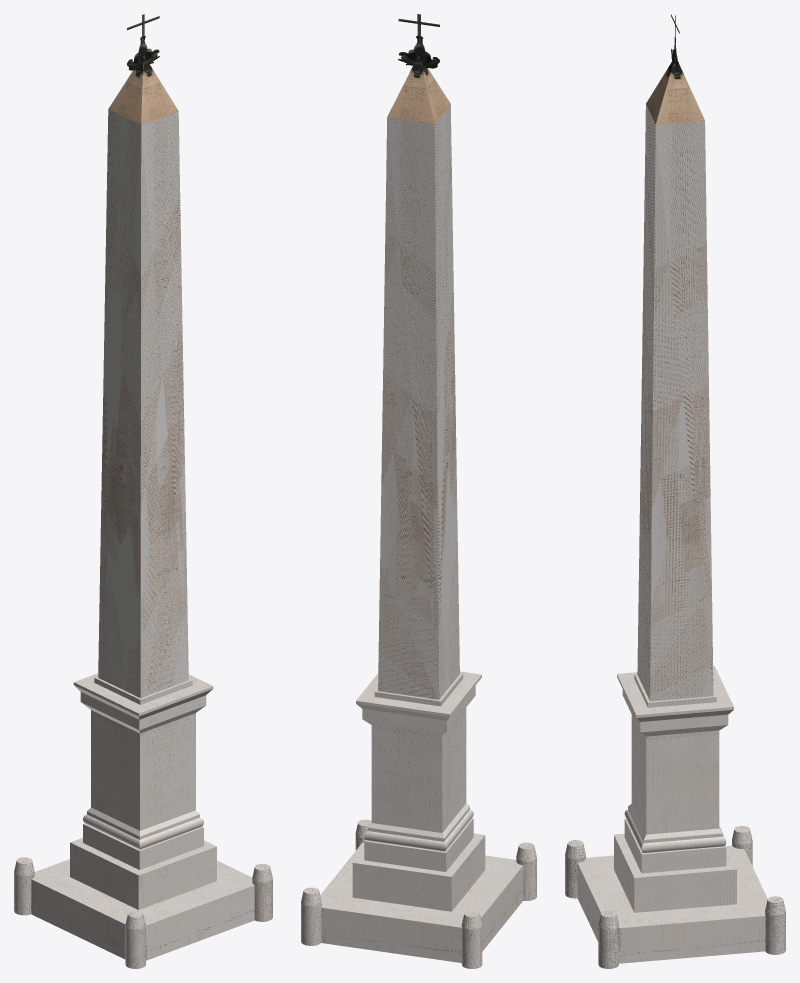
The picture shows the model from 3 angles, left to right: view 1: azimuth 30°, elevation 25°; view 2: azimuth 150°, elevation 25°; view 3: azimuth 270°, elevation 25°; orthographic projection.
Parts seen in each view (by area): view 1: SketchUp (×15); view 2: SketchUp (×15); view 3: SketchUp (×15).
Part boxes in pixels (x1,y1,x2,y2): SketchUp (×15): [14, 14, 272, 968]; SketchUp (×15): [301, 14, 536, 968]; SketchUp (×15): [565, 56, 785, 968].
Size of the model in its own units: 385 by 385 by 1747.
Materials: 10 (9 with a texture image).
